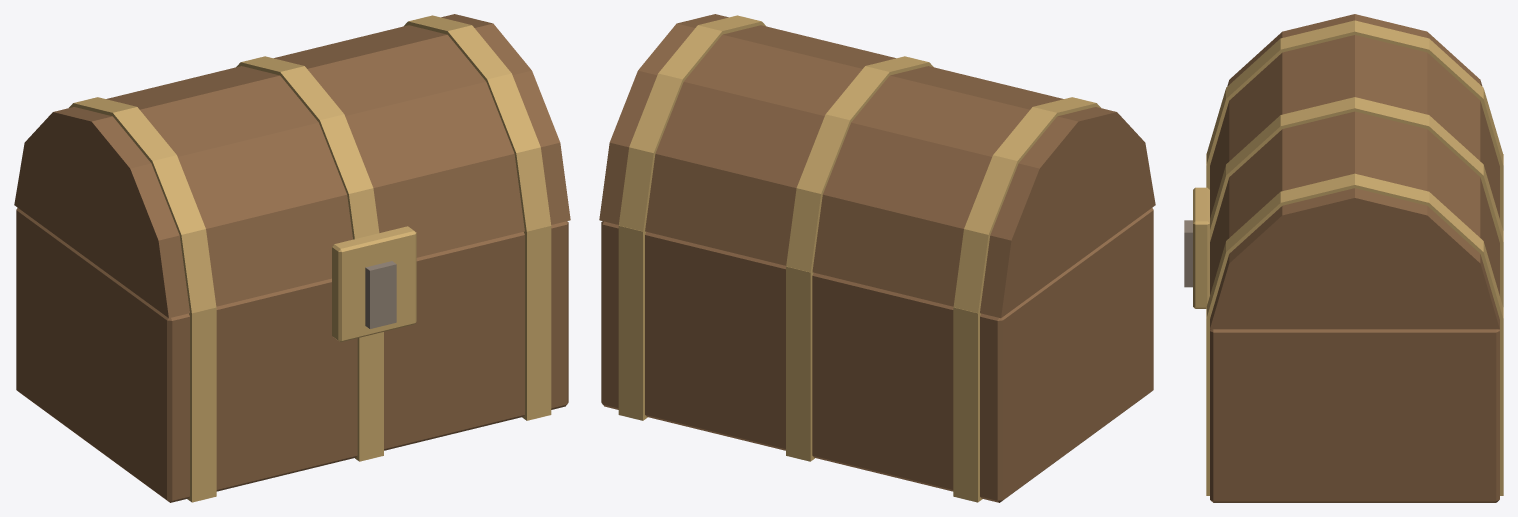
Rendered from Kit_Coffre.fbx.
3 renders of one model, left to right at view 1: azimuth 30°, elevation 25°; view 2: azimuth 150°, elevation 25°; view 3: azimuth 270°, elevation 25°, orthographic. The views are drawn at different scales.
Parts seen in each view (by area): view 1: Kit_Coffre_Bois, Kit_Coffre_Laiton, Kit_Coffre_Fer; view 2: Kit_Coffre_Bois, Kit_Coffre_Laiton; view 3: Kit_Coffre_Bois, Kit_Coffre_Laiton, Kit_Coffre_Fer.
Boxes of the visible parts, left/top/right/bottom form: Kit_Coffre_Bois: left=14, top=14, right=570, bottom=502; Kit_Coffre_Laiton: left=69, top=15, right=551, bottom=502; Kit_Coffre_Fer: left=365, top=261, right=396, bottom=328; Kit_Coffre_Bois: left=599, top=14, right=1155, bottom=502; Kit_Coffre_Laiton: left=618, top=15, right=1100, bottom=502; Kit_Coffre_Bois: left=1210, top=14, right=1499, bottom=502; Kit_Coffre_Laiton: left=1193, top=20, right=1503, bottom=495; Kit_Coffre_Fer: left=1184, top=220, right=1192, bottom=287.
Size of the model in its own units: 360 by 284 by 264.
